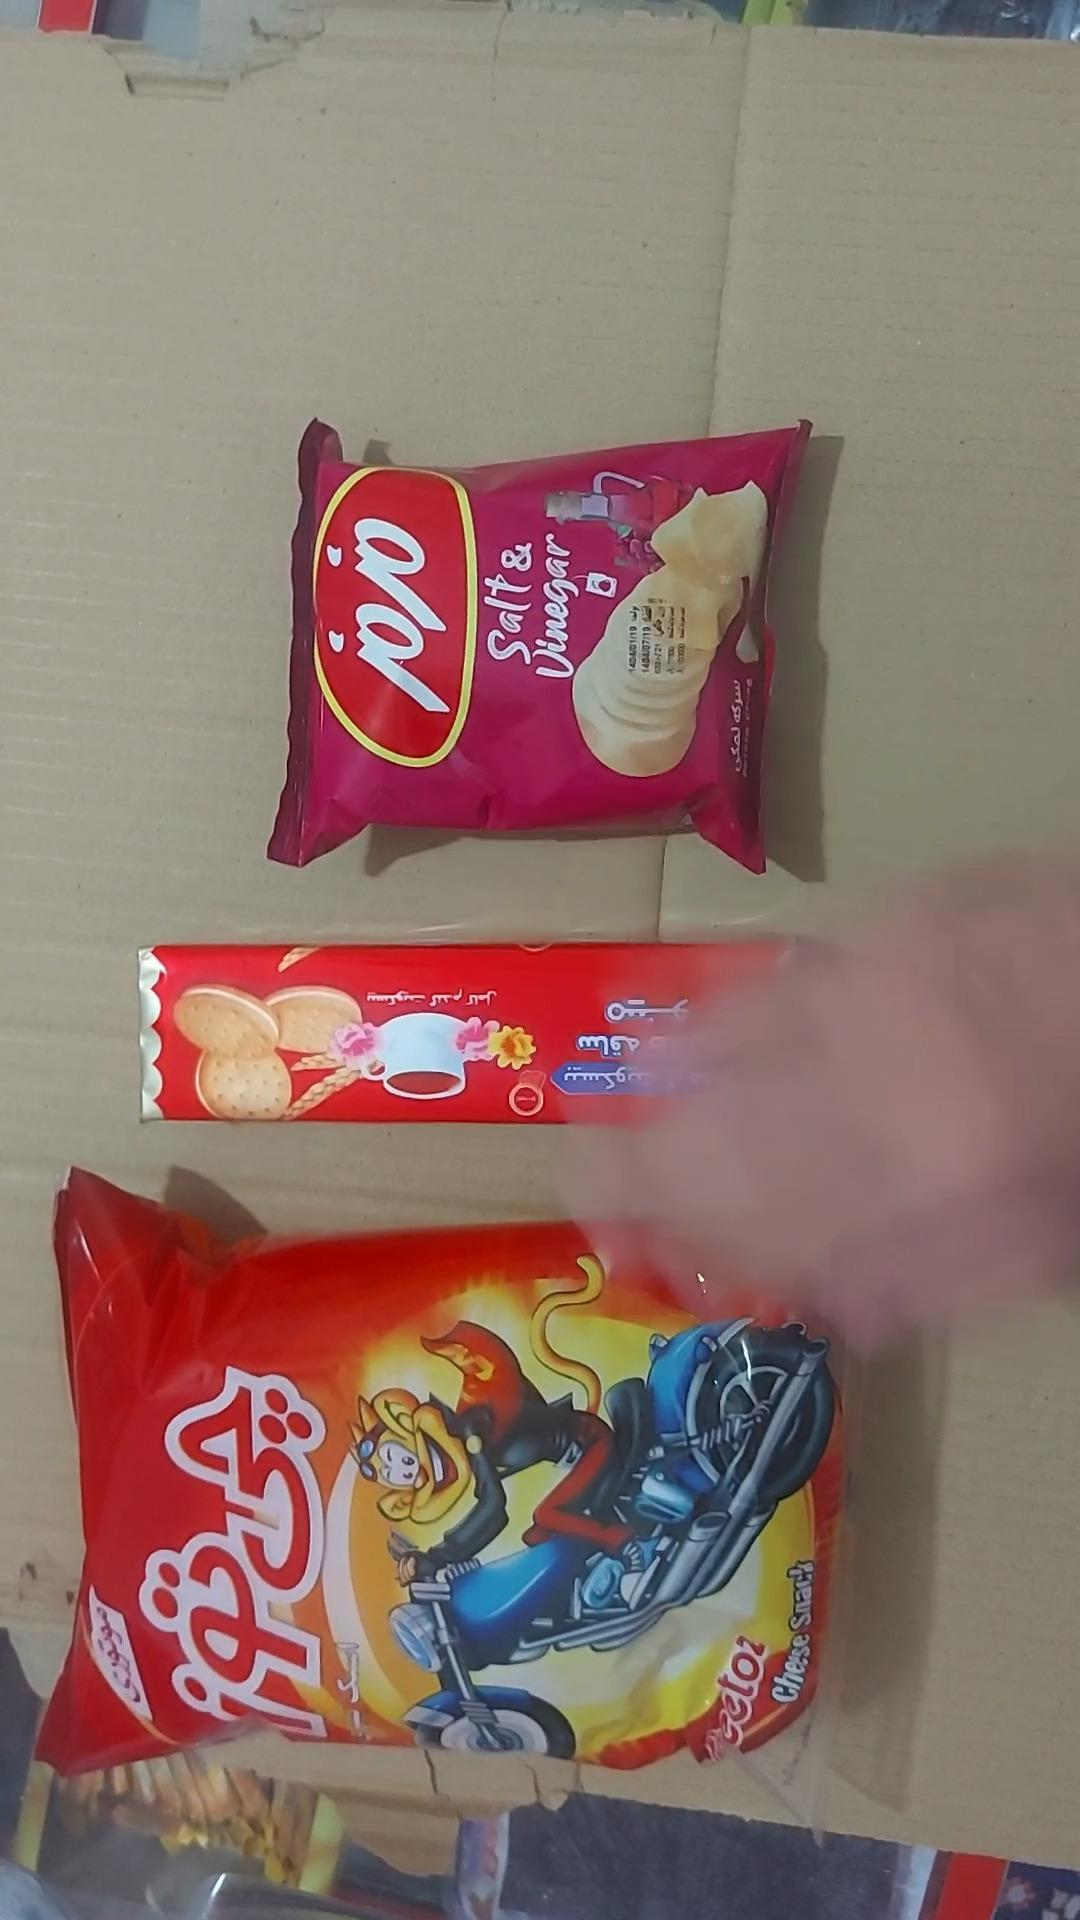Cheetoz snack 90g: (34, 1167, 847, 1821)
Maz Maz vinegar chips: (266, 421, 810, 876)
Minoo cream biscuit: (138, 944, 789, 1127)
